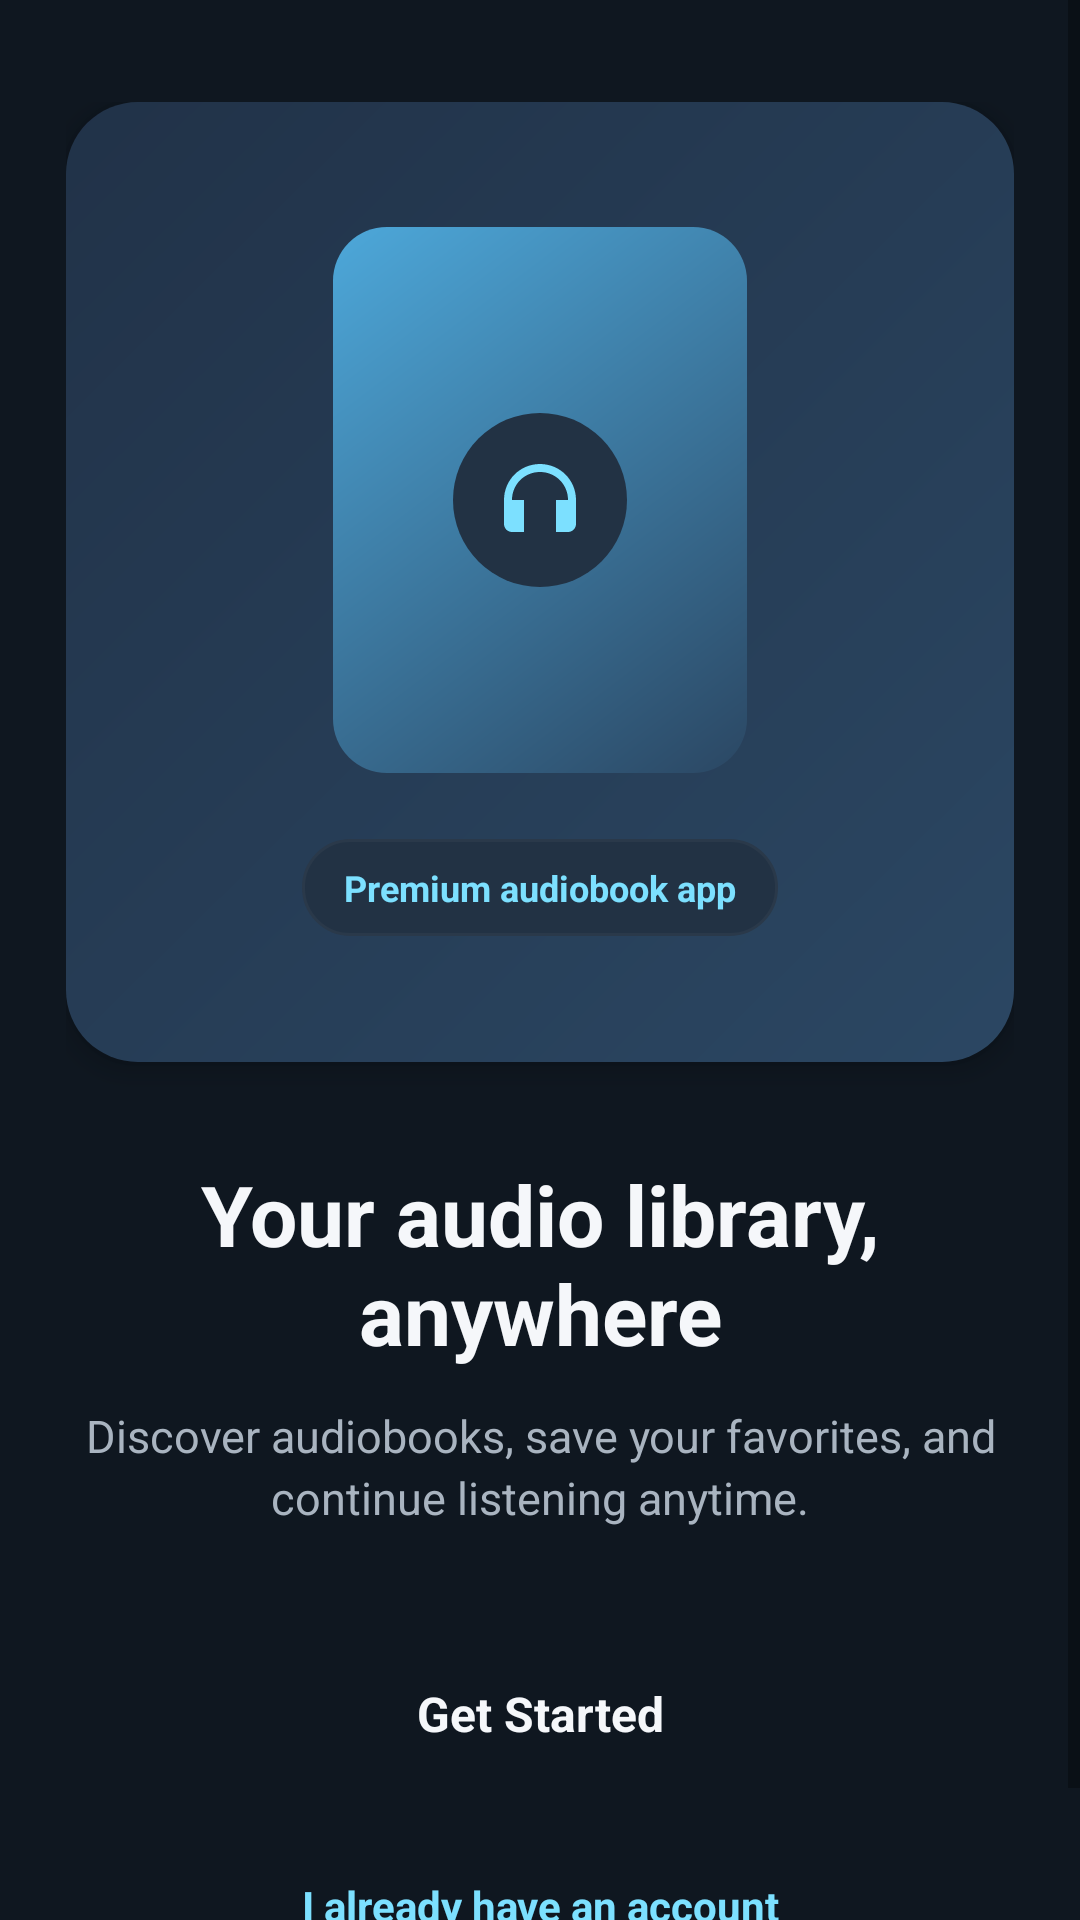

Icon click points for this 1080x1920 phone screenshot, format (x,y):
Audiobook: (540,500)
